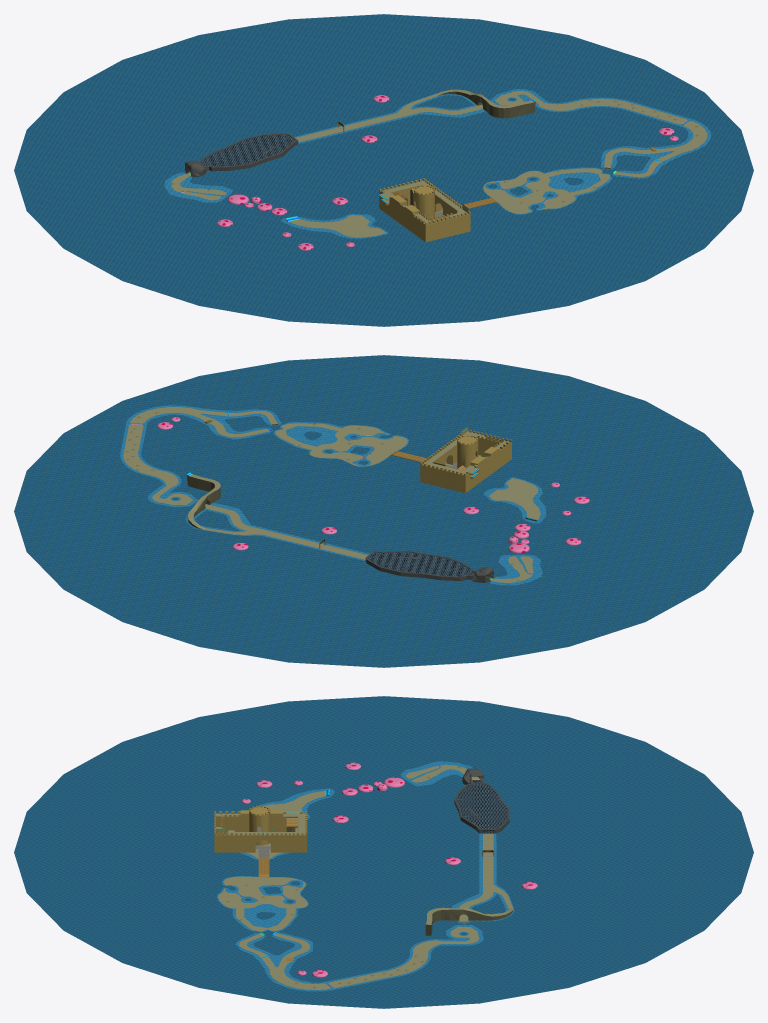
3 renders of one model, top to bottom at view 1: azimuth 30°, elevation 25°; view 2: azimuth 150°, elevation 25°; view 3: azimuth 270°, elevation 25°, orthographic.
Parts seen in each view (by area): view 1: Beach_course-SKP--FallBoundary001.001, Beach_course-SKP--1x0D_006.001, Beach_course-SKP--Offroad_003.001, Beach_course-SKP--Sandcastle_wall.001, Beach_course-SKP--SeeThrough_Water.001, Beach_course-SKP--TrickRamp_004.001, Beach_course-SKP--Gray_Stone.001, Beach_course-SKP--Wall_Sand.001; view 2: Beach_course-SKP--FallBoundary001.001, Beach_course-SKP--1x0D_006.001, Beach_course-SKP--Offroad_003.001, Beach_course-SKP--Sandcastle_wall.001, Beach_course-SKP--SeeThrough_Water.001, Beach_course-SKP--TrickRamp_004.001, Beach_course-SKP--Gray_Stone.001, Beach_course-SKP--Wall_Sand.001; view 3: Beach_course-SKP--FallBoundary001.001, Beach_course-SKP--1x0D_006.001, Beach_course-SKP--Offroad_003.001, Beach_course-SKP--Sandcastle_wall.001, Beach_course-SKP--SeeThrough_Water.001, Beach_course-SKP--TrickRamp_004.001, Beach_course-SKP--Gray_Stone.001, Beach_course-SKP--Wall_Sand.001.
Part boxes in pixels (left/top/right/bottom): Beach_course-SKP--FallBoundary001.001: left=14, top=14, right=753, bottom=326; Beach_course-SKP--1x0D_006.001: left=171, top=89, right=707, bottom=237; Beach_course-SKP--Offroad_003.001: left=164, top=89, right=710, bottom=238; Beach_course-SKP--Sandcastle_wall.001: left=379, top=178, right=470, bottom=242; Beach_course-SKP--SeeThrough_Water.001: left=201, top=134, right=295, bottom=166; Beach_course-SKP--TrickRamp_004.001: left=217, top=95, right=678, bottom=250; Beach_course-SKP--Gray_Stone.001: left=185, top=133, right=298, bottom=176; Beach_course-SKP--Wall_Sand.001: left=285, top=91, right=613, bottom=221; Beach_course-SKP--FallBoundary001.001: left=14, top=355, right=753, bottom=667; Beach_course-SKP--1x0D_006.001: left=123, top=407, right=540, bottom=582; Beach_course-SKP--Offroad_003.001: left=120, top=405, right=546, bottom=585; Beach_course-SKP--Sandcastle_wall.001: left=420, top=426, right=511, bottom=493; Beach_course-SKP--SeeThrough_Water.001: left=368, top=552, right=474, bottom=576; Beach_course-SKP--TrickRamp_004.001: left=157, top=417, right=589, bottom=553; Beach_course-SKP--Gray_Stone.001: left=365, top=550, right=493, bottom=582; Beach_course-SKP--Wall_Sand.001: left=187, top=424, right=537, bottom=529; Beach_course-SKP--FallBoundary001.001: left=14, top=696, right=753, bottom=1008; Beach_course-SKP--1x0D_006.001: left=216, top=764, right=513, bottom=989; Beach_course-SKP--Offroad_003.001: left=217, top=761, right=514, bottom=991; Beach_course-SKP--Sandcastle_wall.001: left=214, top=805, right=307, bottom=852; Beach_course-SKP--SeeThrough_Water.001: left=456, top=781, right=507, bottom=833; Beach_course-SKP--TrickRamp_004.001: left=241, top=762, right=537, bottom=977; Beach_course-SKP--Gray_Stone.001: left=454, top=768, right=509, bottom=833; Beach_course-SKP--Wall_Sand.001: left=264, top=792, right=512, bottom=935.
Size of what is drawn, in the model's own units: 239485 by 11389 by 239485.
26 materials, 26 textured.
